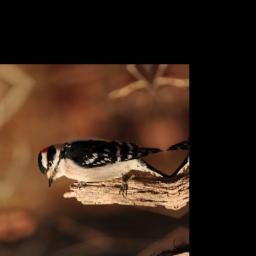Woodpecker: (31, 126, 171, 211)
